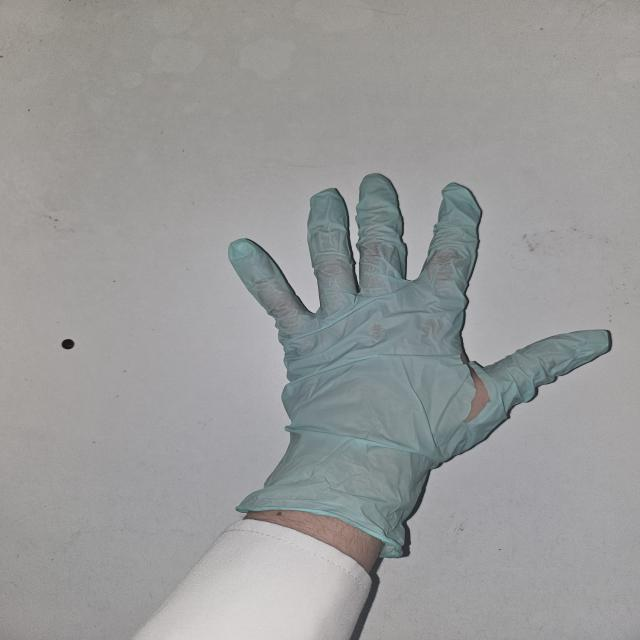gloves_damaged: (226, 170, 616, 553)
